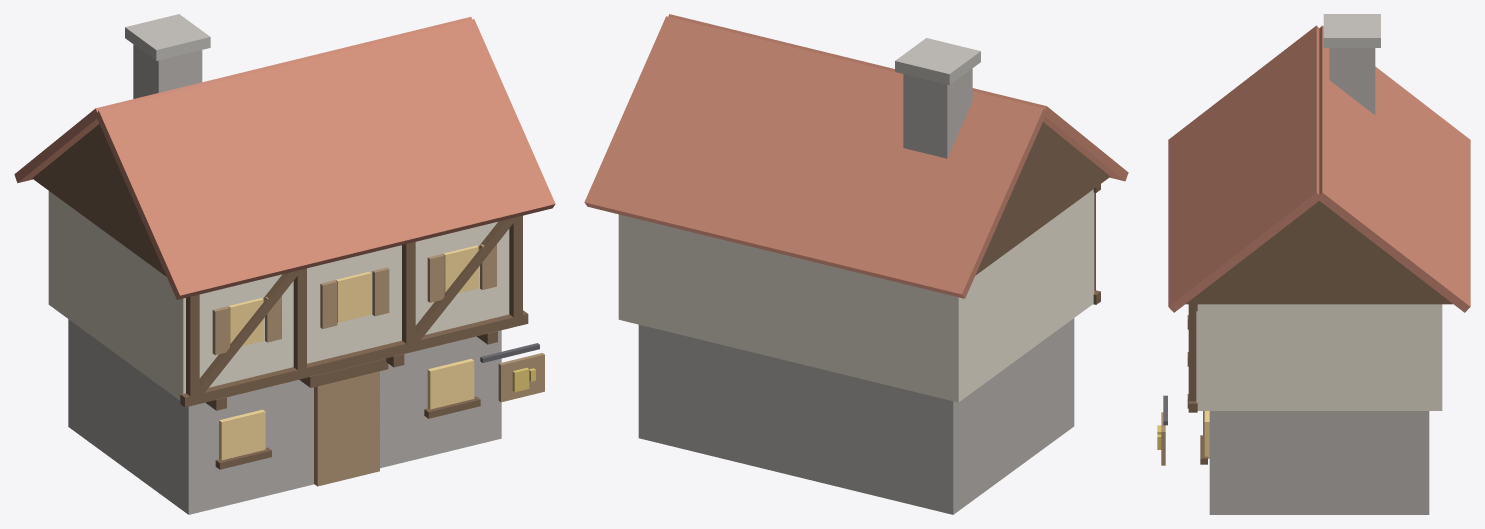
The model's file is tavern.glb.
3 renders of one model, left to right at view 1: azimuth 30°, elevation 25°; view 2: azimuth 150°, elevation 25°; view 3: azimuth 270°, elevation 25°, orthographic. The views are drawn at different scales.
Parts seen in each view (by area): view 1: Cube.014, Cube, Cube.001, hastial, Cube.018, Cube.002, Cube.015, Cube.017, Cube.016, Cube.022, Cube.020, Cube.008 (+16 smaller); view 2: Cube.015, Cube.001, Cube, hastial, Cube.016, Cube.017, Cube.014; view 3: Cube.014, Cube.001, Cube.015, Cube, hastial.001, Cube.016, Cube.017, Cube.007.
Boxes of the visible parts, <box> form: Cube.014: <box>96,19,555,299</box>; Cube: <box>68,319,501,514</box>; Cube.001: <box>48,191,509,400</box>; hastial: <box>32,124,166,276</box>; Cube.018: <box>314,371,379,486</box>; Cube.002: <box>180,310,528,407</box>; Cube.015: <box>14,17,471,183</box>; Cube.017: <box>125,14,210,60</box>; Cube.016: <box>133,44,202,98</box>; Cube.022: <box>427,358,474,409</box>; Cube.020: <box>219,409,265,460</box>; Cube.008: <box>192,270,301,398</box>; Cube.015: <box>584,16,1045,298</box>; Cube.001: <box>618,189,1094,402</box>; Cube: <box>638,318,1074,514</box>; hastial: <box>975,122,1110,275</box>; Cube.016: <box>903,68,972,158</box>; Cube.017: <box>895,38,980,84</box>; Cube.014: <box>668,14,1128,181</box>; Cube.014: <box>1168,25,1321,312</box>; Cube.001: <box>1196,304,1442,410</box>; Cube.015: <box>1317,25,1470,312</box>; Cube: <box>1209,411,1429,514</box>; hastial.001: <box>1185,201,1452,304</box>; Cube.016: <box>1329,48,1375,114</box>; Cube.017: <box>1323,14,1380,47</box>; Cube.007: <box>1188,311,1196,401</box>.
Bounding box in the file's own units: 3.6 × 3.77 × 2.85.
